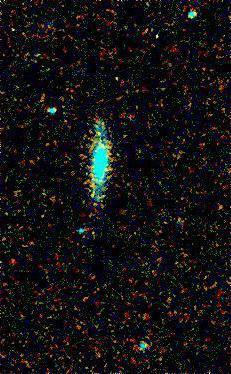star: (89, 119, 119, 149)
